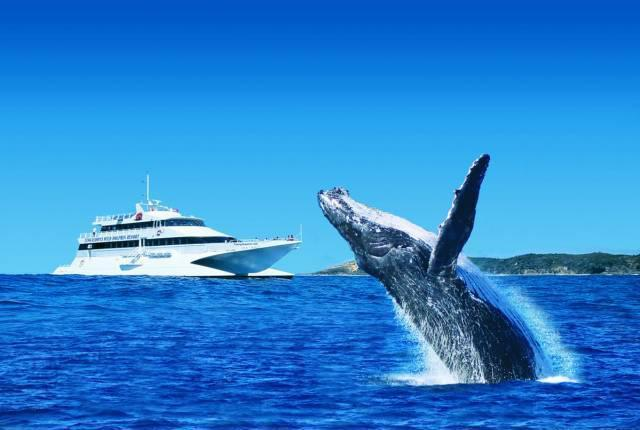fish: (308, 153, 566, 386)
yacht: (54, 176, 305, 282)
